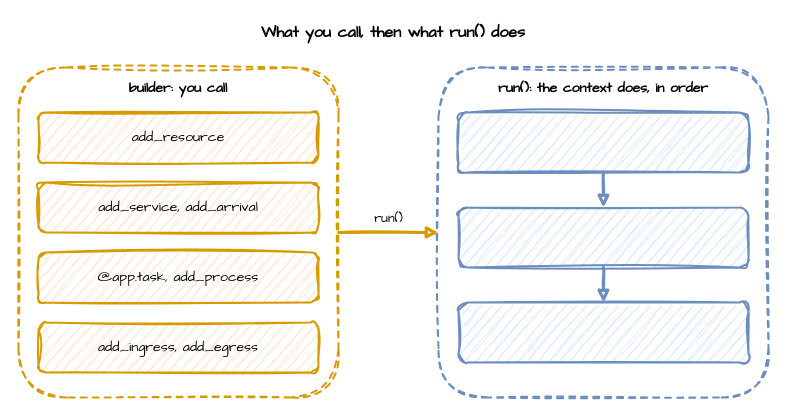
This 786x415 diagram has some shape labels left out. The centre of each missing label's shape, as x and y in pixels:
creates the DynamicRealtimeEnvironment: (x=603, y=142)
starts the ingress and egress threads: (x=603, y=237)
starts the processes and runs the clock: (x=603, y=332)
